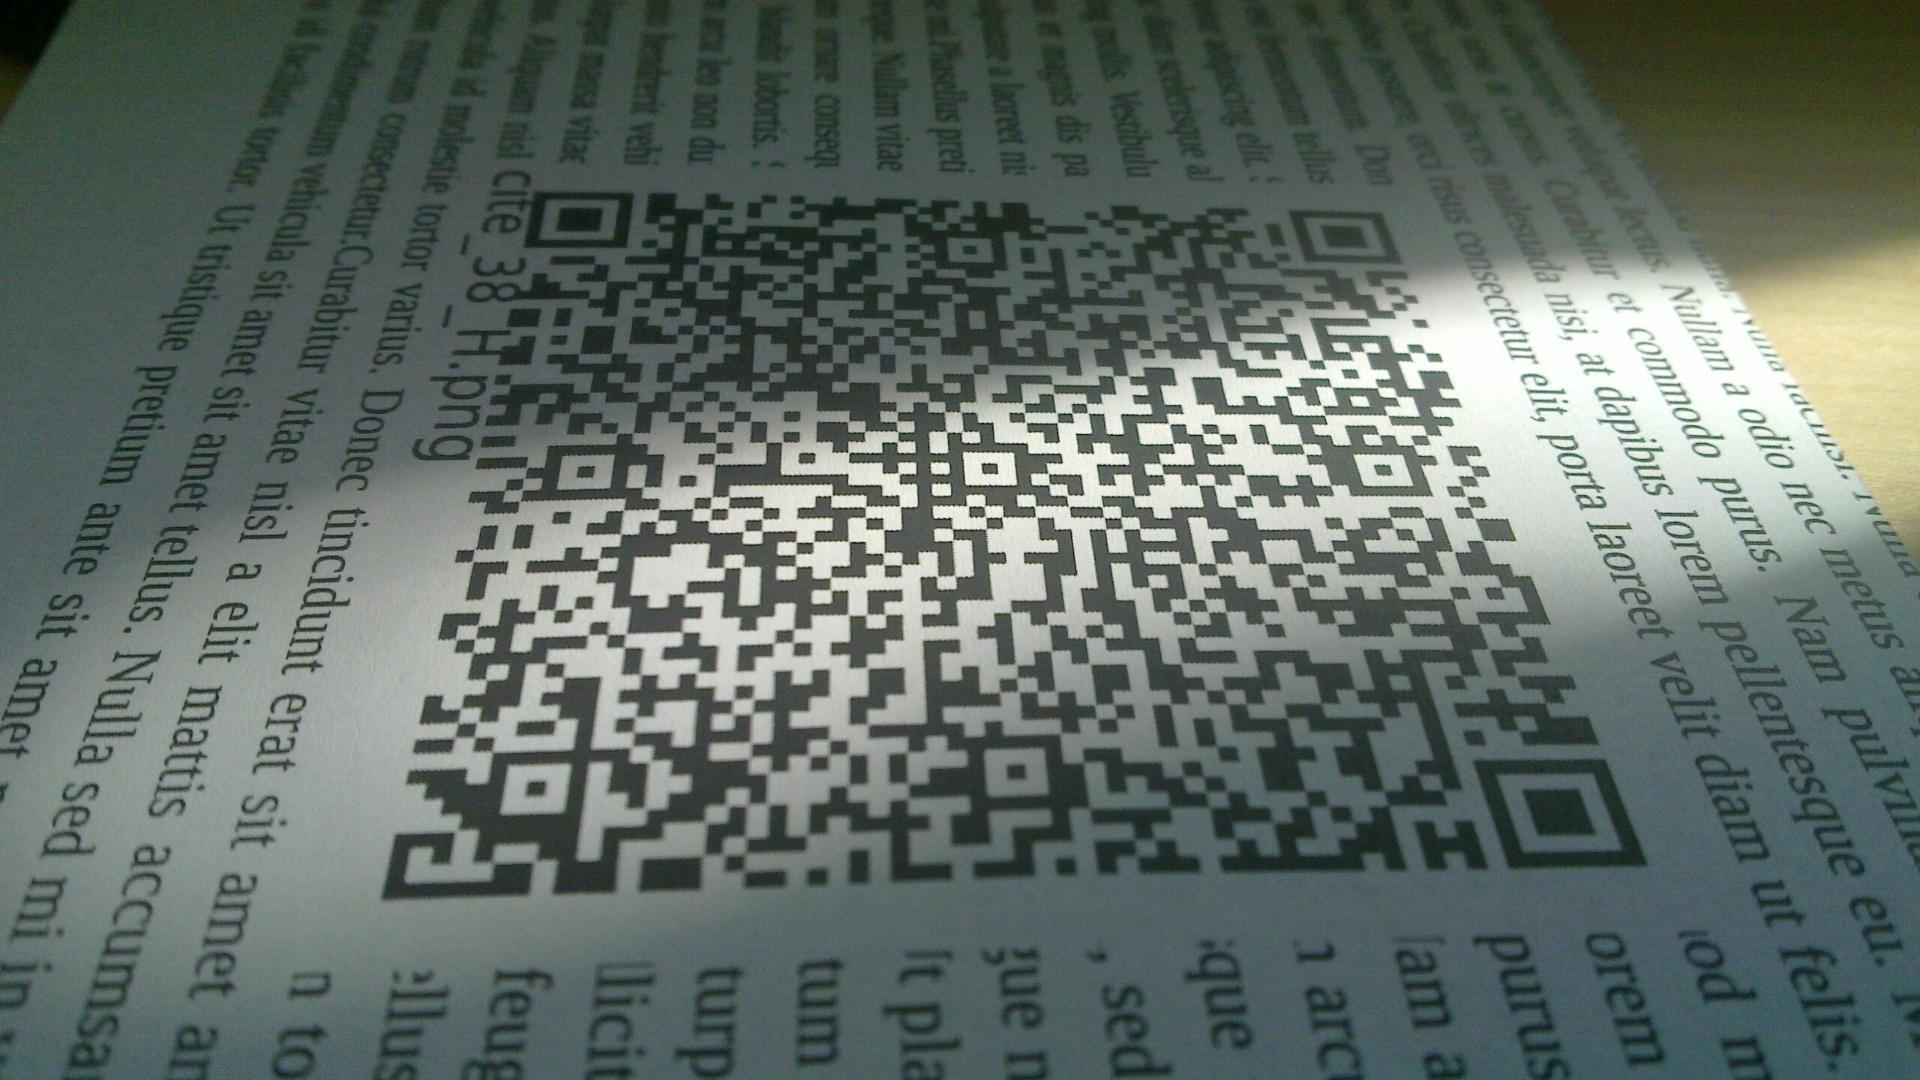qr_code: (380, 191, 1650, 899)
